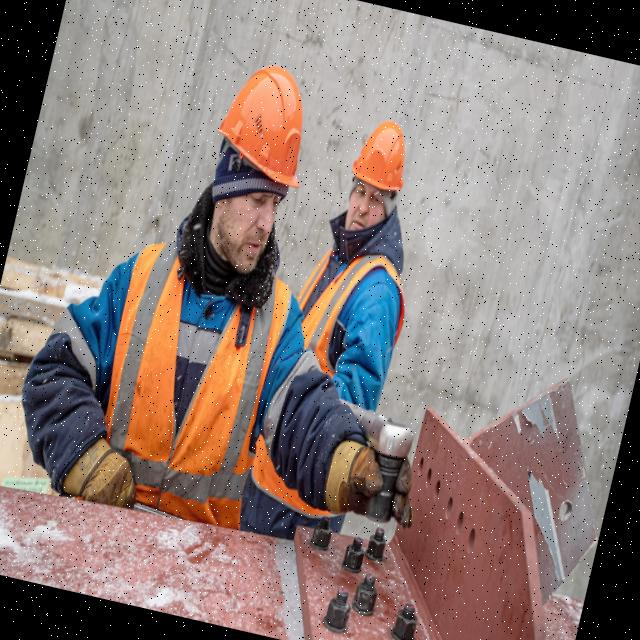Helmet: (204, 58, 327, 215), (344, 115, 417, 213)
Jacket: (85, 207, 310, 529), (290, 216, 416, 388)
